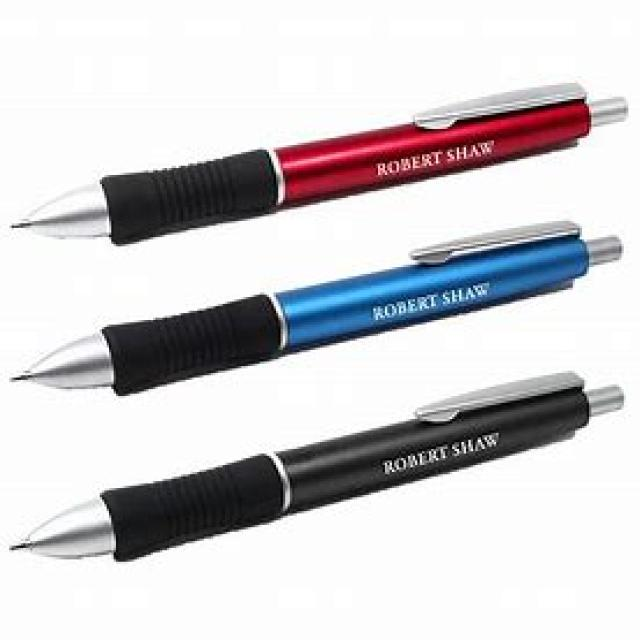pen: (8, 371, 626, 564), (5, 213, 623, 397), (9, 81, 636, 242)
